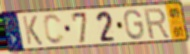2: (94, 9, 119, 45)
7: (69, 11, 89, 45)
C: (42, 13, 67, 46)
G: (123, 8, 146, 41)
K: (21, 15, 44, 46)
R: (143, 7, 172, 41)
